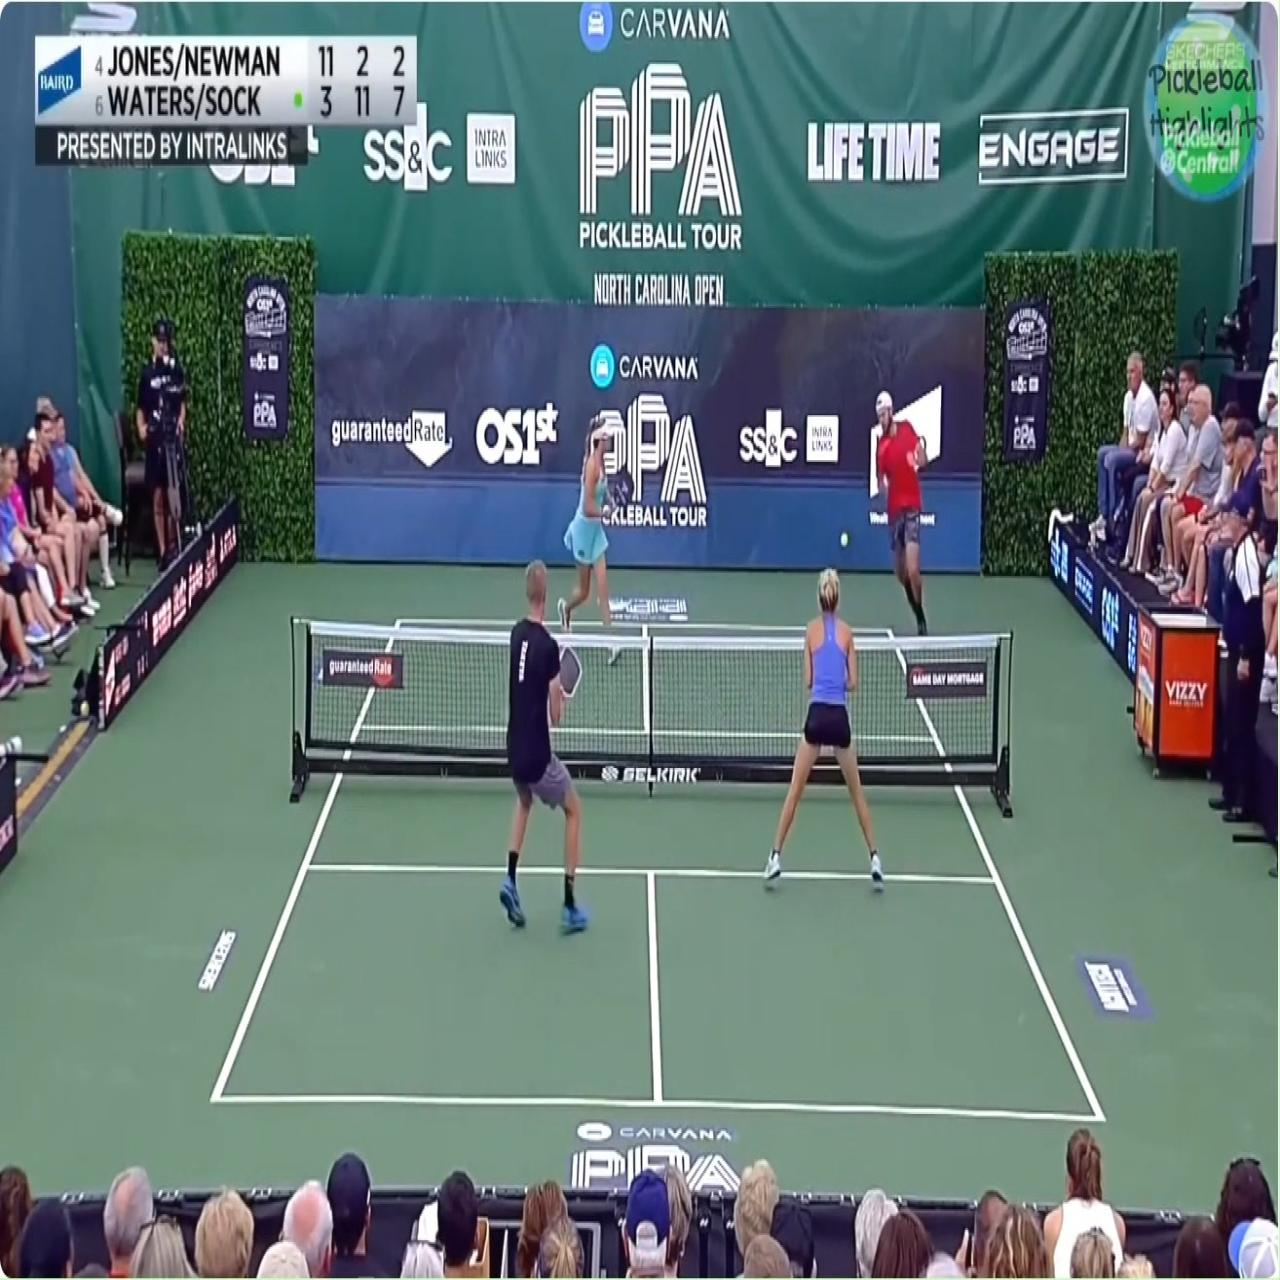pickleball: (839, 531, 850, 546)
